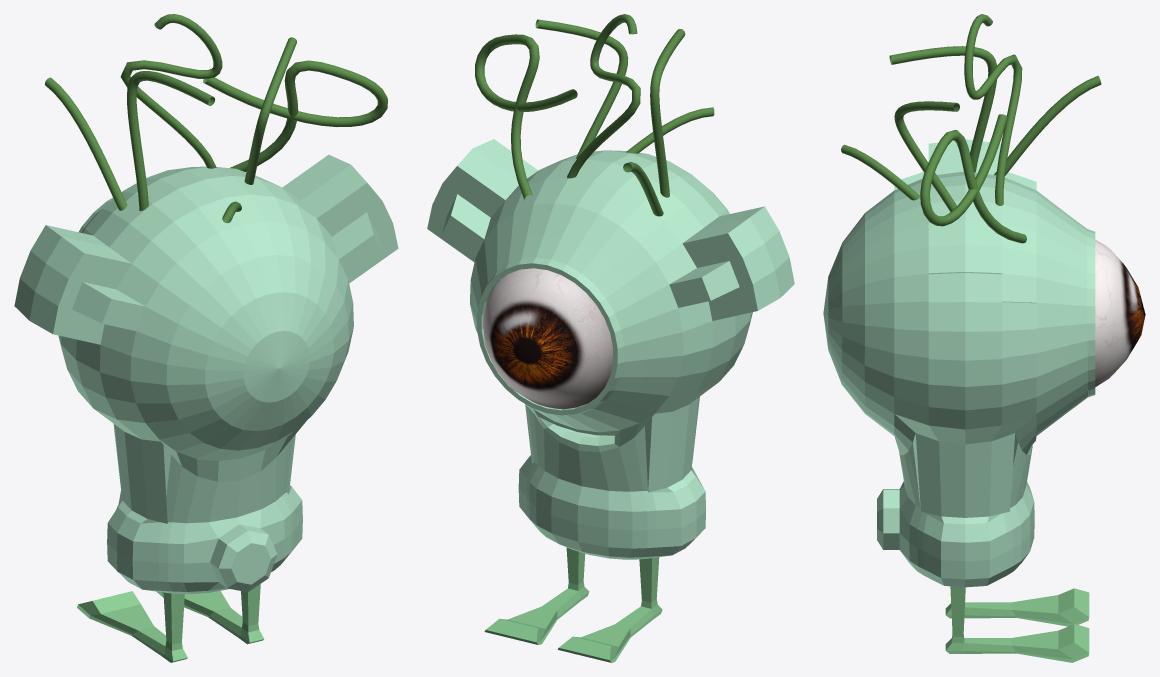
Rendered from mint_monster.glb.
The picture shows the model from 3 angles, left to right: view 1: azimuth 30°, elevation 25°; view 2: azimuth 150°, elevation 25°; view 3: azimuth 270°, elevation 25°; orthographic projection. The views are drawn at different scales.
Visible parts, largest first — view 1: Cube.004; view 2: Cube.004; view 3: Cube.004.
Boxes of the visible parts, x1,y1,x2,y2 form: Cube.004: [14, 14, 398, 662]; Cube.004: [427, 14, 794, 662]; Cube.004: [823, 14, 1145, 662].
Bounding box in the file's own units: 2.75 × 4.69 × 2.27.
4 materials, 1 textured.
